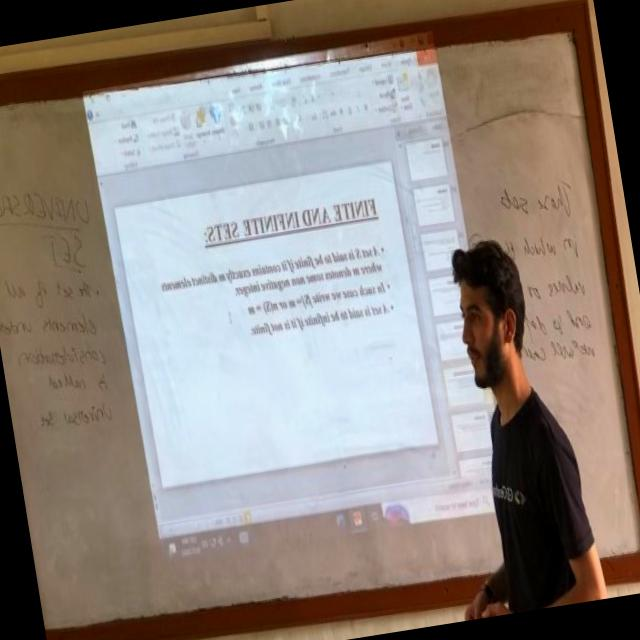Instructor: (432, 208, 598, 616)
Slide: (76, 33, 516, 573)
White-board: (0, 11, 640, 640)
